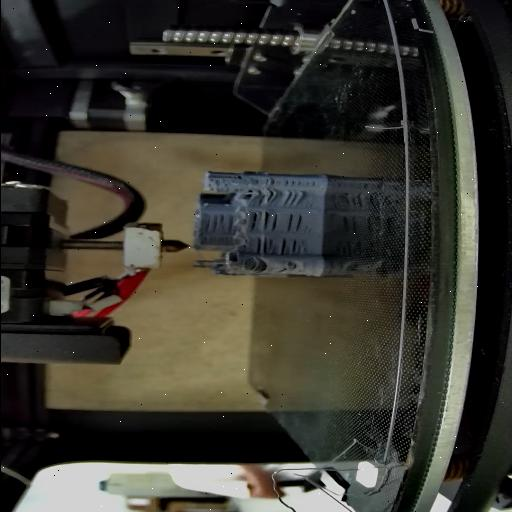cracks: (200, 214, 233, 238), (253, 178, 317, 188), (250, 212, 278, 234), (280, 237, 304, 257), (284, 213, 306, 233), (255, 190, 276, 208), (284, 190, 302, 208), (254, 238, 272, 255), (248, 264, 264, 275), (230, 174, 243, 180), (274, 269, 292, 273)
